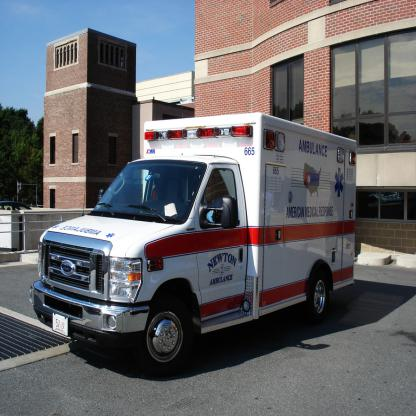Ambulance: (27, 111, 357, 374)
Truck: (37, 119, 351, 383)
